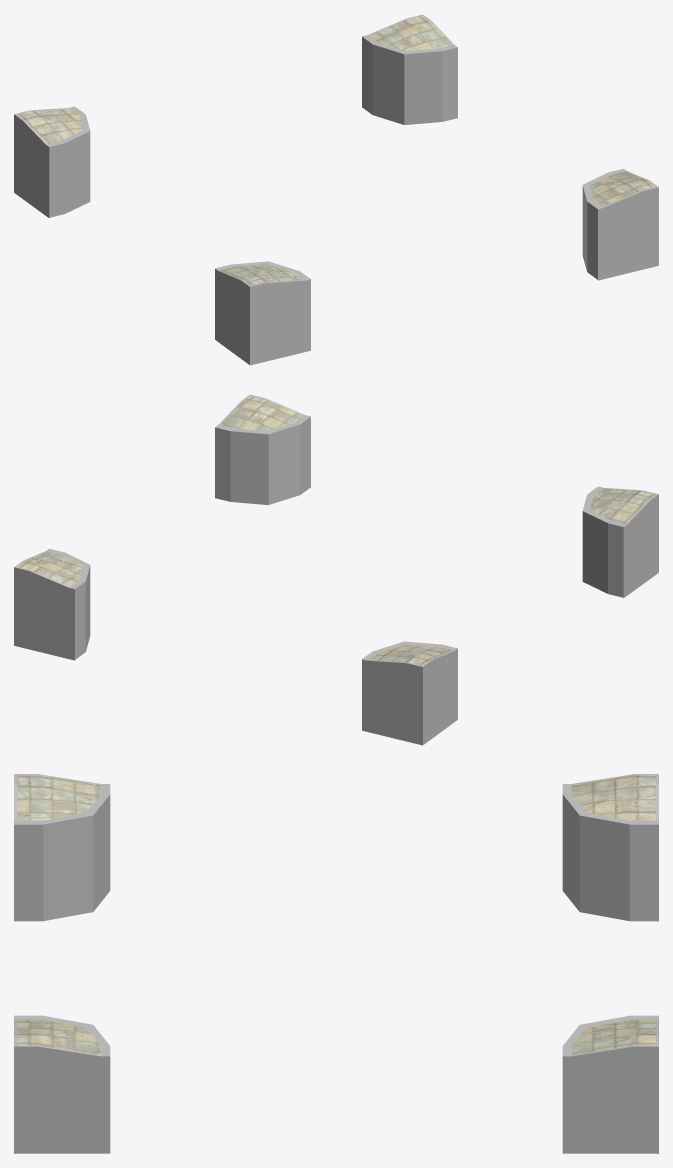
Rendered from road_02_cr_hedge.fbx.
3 renders of one model, top to bottom at view 1: azimuth 30°, elevation 25°; view 2: azimuth 150°, elevation 25°; view 3: azimuth 270°, elevation 25°, orthographic. The views are drawn at different scales.
Parts seen in each view (by area): view 1: road_02_cr_hedge; view 2: road_02_cr_hedge; view 3: road_02_cr_hedge.
Boxes of the visible parts, x1=… form: road_02_cr_hedge: x1=14, y1=14, x2=658, y2=365; road_02_cr_hedge: x1=14, y1=394, x2=658, y2=745; road_02_cr_hedge: x1=14, y1=774, x2=658, y2=1153.
Bounding box in the file's own units: 11.99 × 2.2 × 12.
